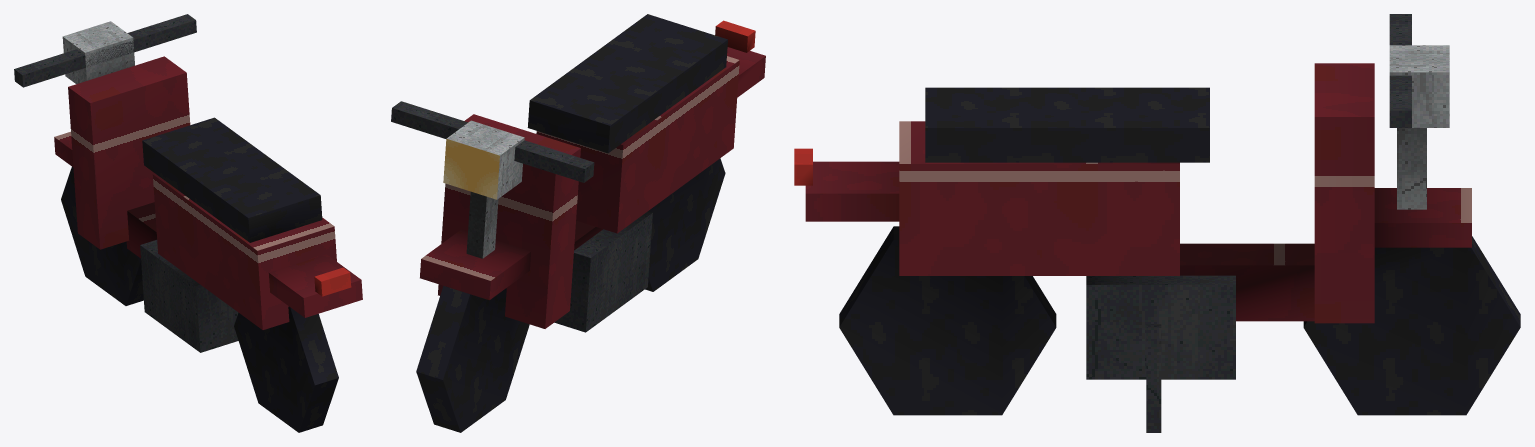
The model's file is motorbike_parked.glb.
3 views of the same model, side by side, from view 1: azimuth 30°, elevation 25°; view 2: azimuth 150°, elevation 25°; view 3: azimuth 270°, elevation 25° (orthographic). The views are drawn at different scales.
Parts seen in each view (by area): view 1: motorbike_parked_bike_paint, motorbike_parked_rubber, motorbike_parked_metal_dark, motorbike_parked_metal_alu, motorbike_parked_plastic_red; view 2: motorbike_parked_rubber, motorbike_parked_bike_paint, motorbike_parked_metal_dark, motorbike_parked_metal_alu, motorbike_parked_lamp_bulb, motorbike_parked_plastic_red; view 3: motorbike_parked_rubber, motorbike_parked_bike_paint, motorbike_parked_metal_dark, motorbike_parked_metal_alu, motorbike_parked_plastic_red.
Boxes of the visible parts, x1=… form: motorbike_parked_bike_paint: x1=54, y1=56, x2=362, y2=329; motorbike_parked_rubber: x1=61, y1=117, x2=338, y2=432; motorbike_parked_metal_dark: x1=14, y1=14, x2=238, y2=352; motorbike_parked_metal_alu: x1=62, y1=21, x2=134, y2=83; motorbike_parked_plastic_red: x1=314, y1=267, x2=351, y2=296; motorbike_parked_rubber: x1=416, y1=14, x2=727, y2=432; motorbike_parked_bike_paint: x1=420, y1=47, x2=765, y2=328; motorbike_parked_metal_dark: x1=391, y1=101, x2=652, y2=332; motorbike_parked_metal_alu: x1=446, y1=120, x2=524, y2=258; motorbike_parked_lamp_bulb: x1=443, y1=139, x2=499, y2=199; motorbike_parked_plastic_red: x1=715, y1=20, x2=755, y2=52; motorbike_parked_rubber: x1=839, y1=87, x2=1520, y2=415; motorbike_parked_bike_paint: x1=805, y1=63, x2=1471, y2=323; motorbike_parked_metal_dark: x1=1086, y1=14, x2=1411, y2=432; motorbike_parked_metal_alu: x1=1389, y1=45, x2=1449, y2=209; motorbike_parked_plastic_red: x1=794, y1=148, x2=812, y2=185.
Size of what is drawn, in the model's own units: 0.7217 by 1.02 by 1.94.
Materials: 6 (6 with a texture image).
